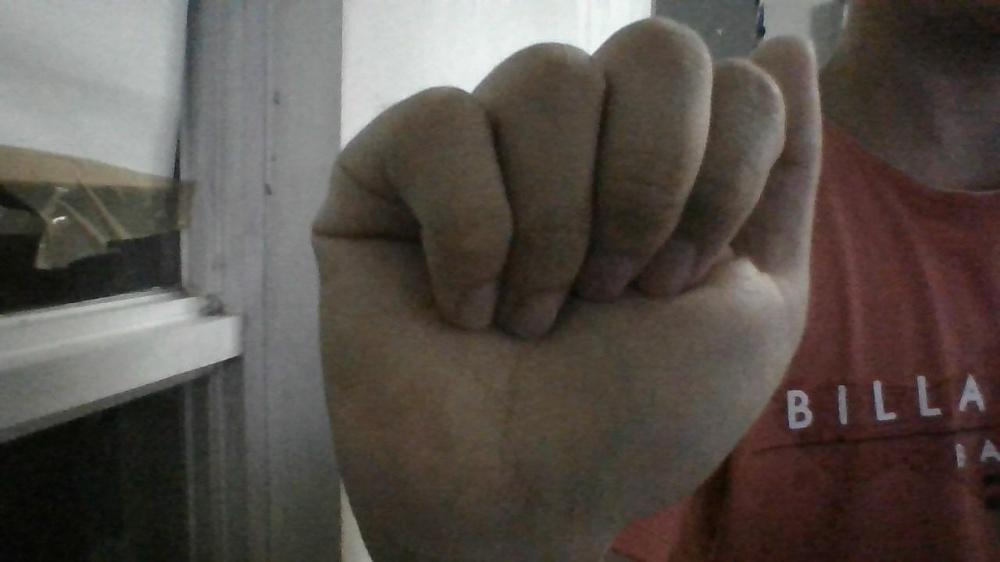a: (312, 15, 824, 522)
